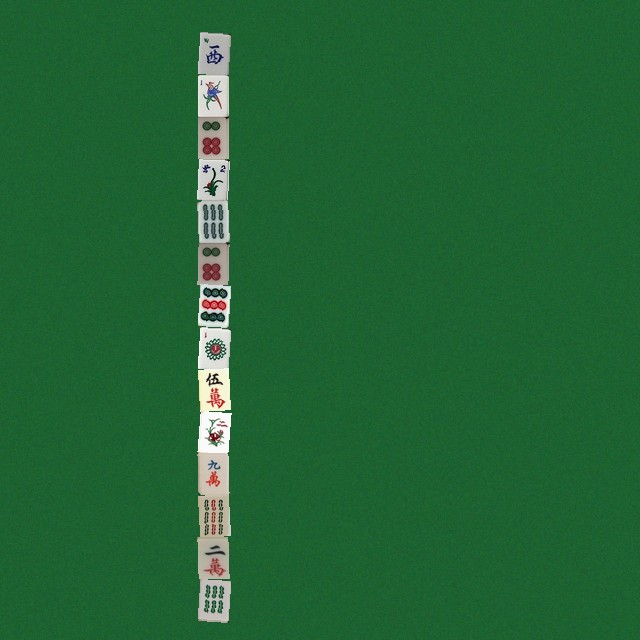tile: (197, 32, 228, 74), (197, 74, 228, 116), (197, 116, 228, 158), (197, 158, 228, 200), (197, 200, 228, 242), (197, 242, 228, 284), (197, 284, 228, 326), (197, 326, 228, 368), (197, 368, 228, 410), (197, 410, 228, 452), (197, 452, 228, 494), (197, 494, 228, 536), (197, 536, 228, 578), (197, 578, 228, 620)
